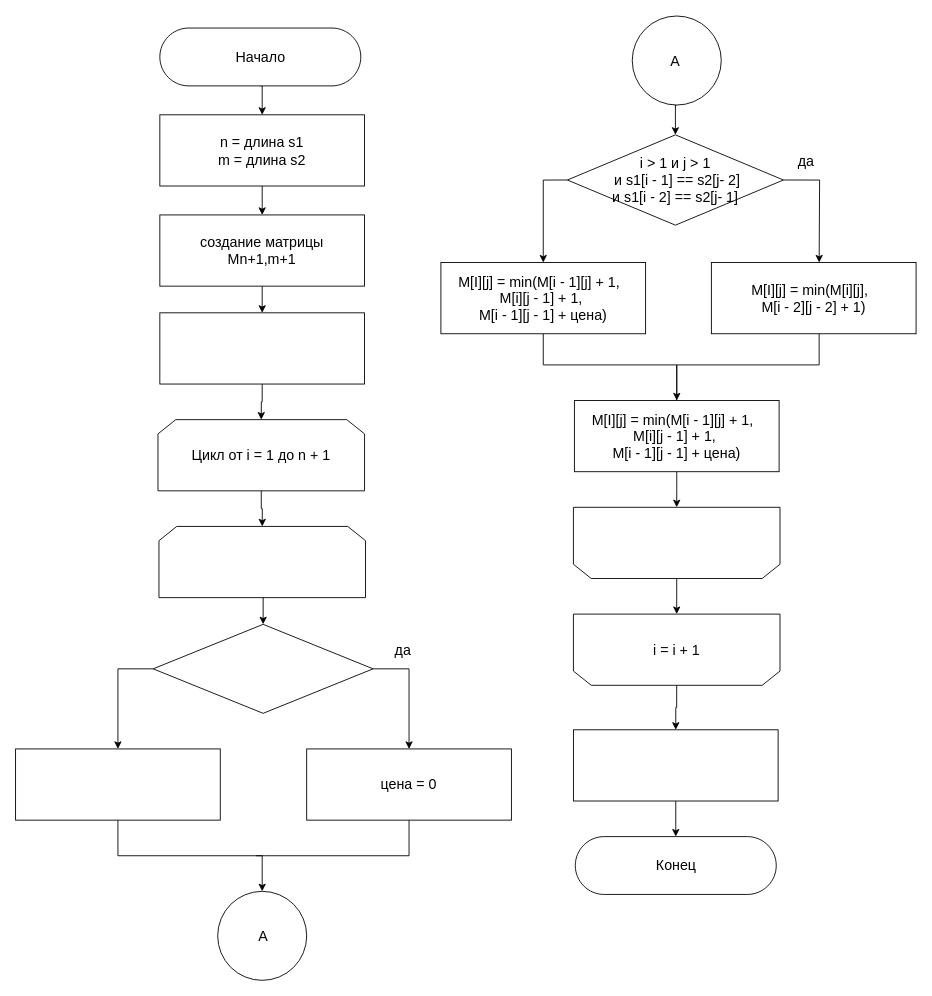
Some shapes in this 932 by 996 pixel diagram are drawn without their labels. Here are the shapes that lost their labels. From the top down, the box of each, then its label:
(159, 312, 365, 384): заполнение нулевого столбца и нулевой строки матрицы M
(158, 526, 366, 598): Цикл от j = 1 до m + 1
(573, 506, 780, 578): j = j + 1
(152, 623, 373, 713): s1[i - 1] == s2[j- 1]
(15, 748, 220, 820): цена = 1
(573, 729, 778, 801): вернуть M[n][m]
